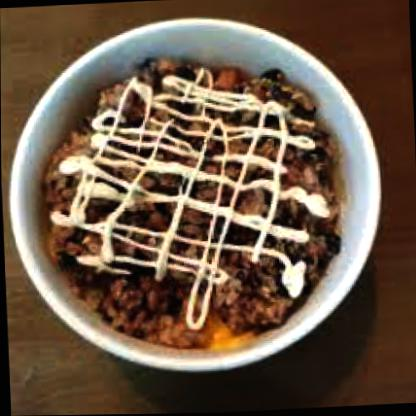cup rice: (43, 40, 360, 351)
